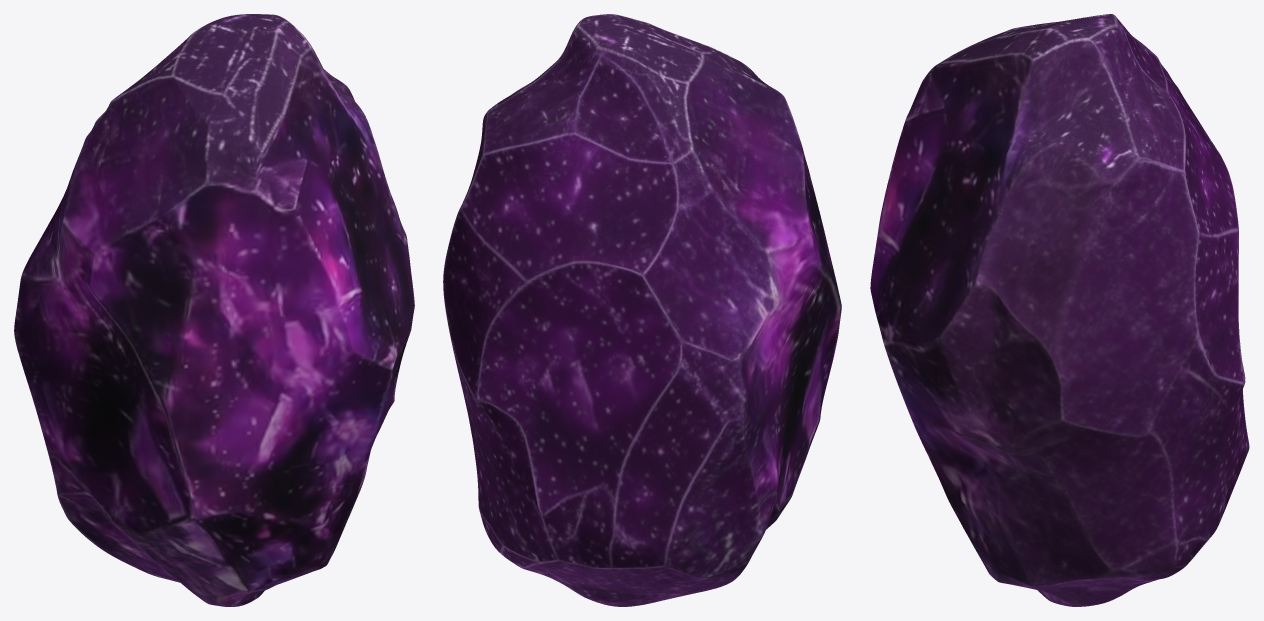
Rendered from purple.glb.
3 views of the same model, side by side, from view 1: azimuth 30°, elevation 25°; view 2: azimuth 150°, elevation 25°; view 3: azimuth 270°, elevation 25° (orthographic). The views are drawn at different scales.
Size of the model in its own units: 1.16 by 1.9 by 1.12.
1 material, 1 textured.
